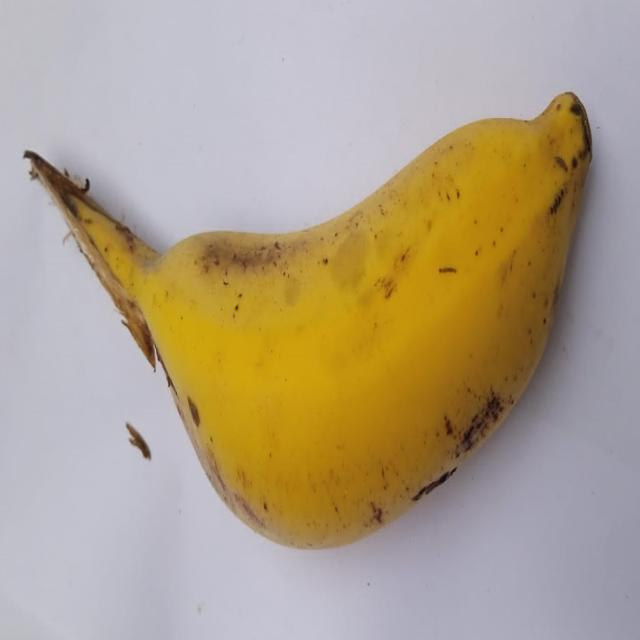banana: (26, 94, 591, 547)
